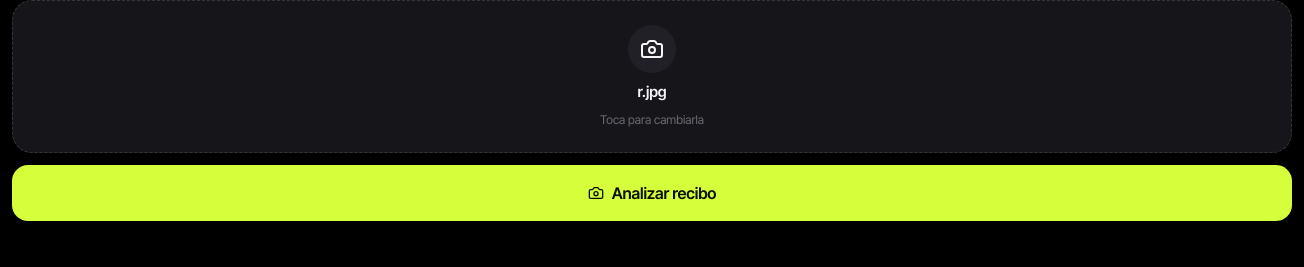
Test: ReceiptUpload › shows the field-level message when the amount cannot be read
Earlier steps of the test are not shown.
Click the button "Analizar recibo".
click(652, 192)  # box [12,164,1292,220]
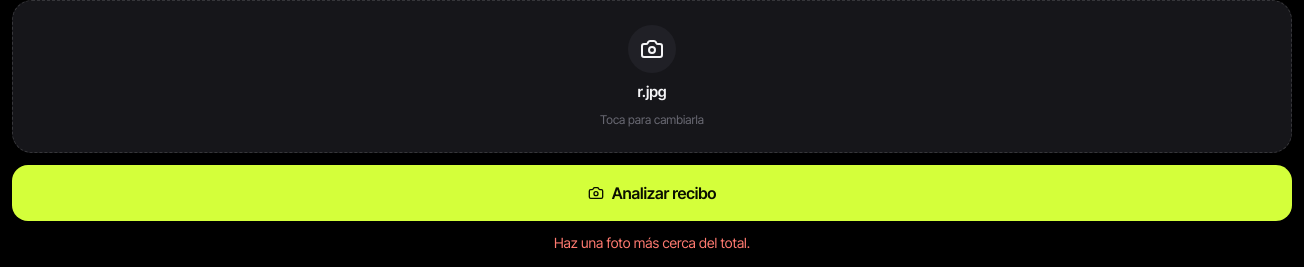
Now the text "Haz una foto más cerca del total." is shown, box [554,234,750,250]
